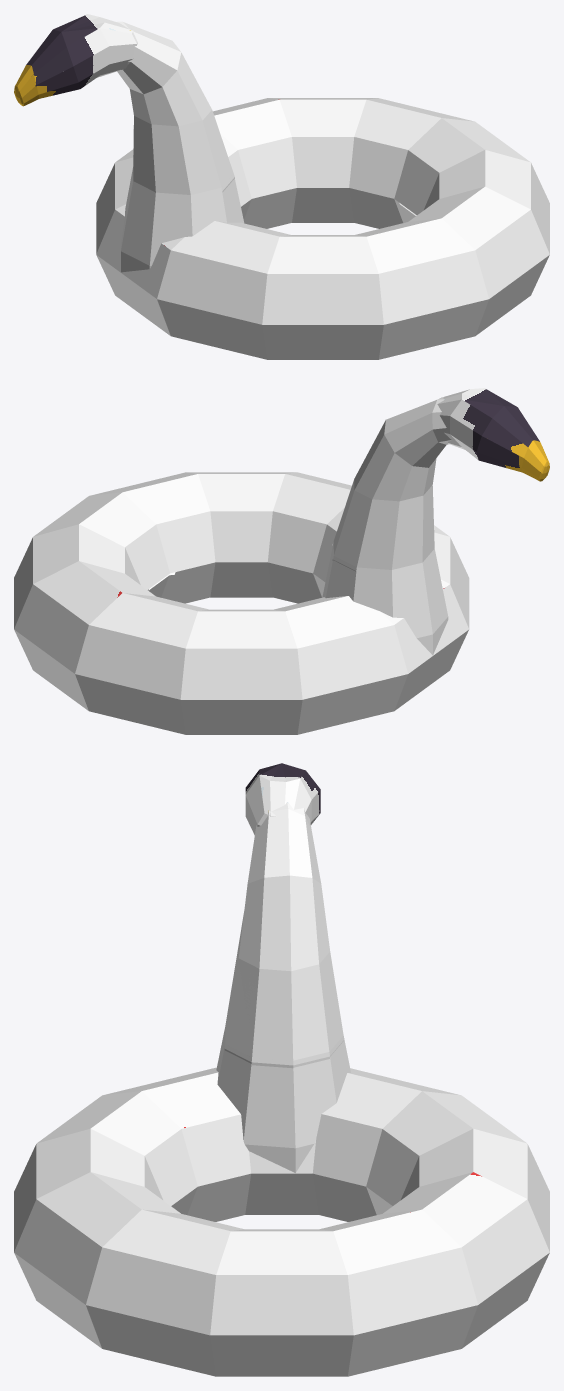
Rendered from Boia_Tres.gltf.
The picture shows the model from 3 angles, top to bottom: view 1: azimuth 30°, elevation 25°; view 2: azimuth 150°, elevation 25°; view 3: azimuth 270°, elevation 25°; orthographic projection. The views are drawn at different scales.
Visible parts, largest first — view 1: torus, cylinder (×6), sphere; view 2: torus, cylinder (×6), sphere; view 3: torus, cylinder (×5), sphere.
Boxes of the visible parts, <box> form: torus: <box>96,98,549,359</box>; cylinder (×6): <box>117,21,244,272</box>; sphere: <box>14,14,137,106</box>; torus: <box>14,472,469,734</box>; cylinder (×6): <box>326,397,451,655</box>; sphere: <box>437,388,549,481</box>; torus: <box>14,1067,549,1376</box>; cylinder (×5): <box>216,802,350,1172</box>; sphere: <box>245,763,320,835</box>.
Size of the model in its own units: 0.5593 by 0.3462 by 0.4375.
Materials: 1 (1 with a texture image).
